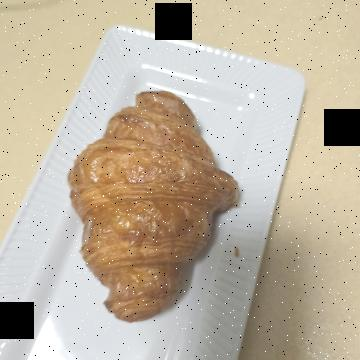croissant: (66, 121, 325, 314)
